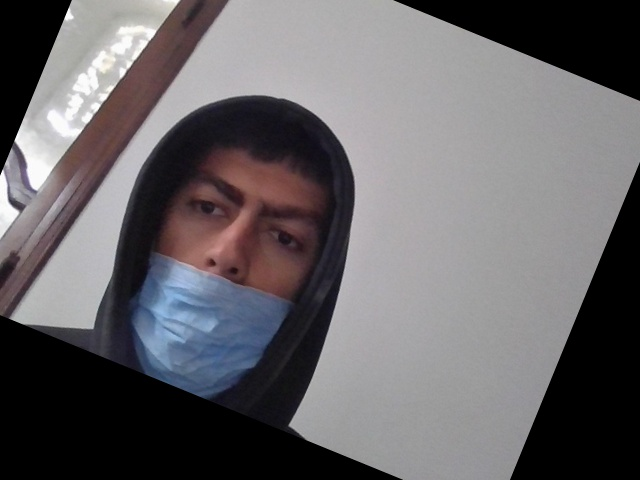mask_weared_incorrect: (129, 131, 330, 403)
